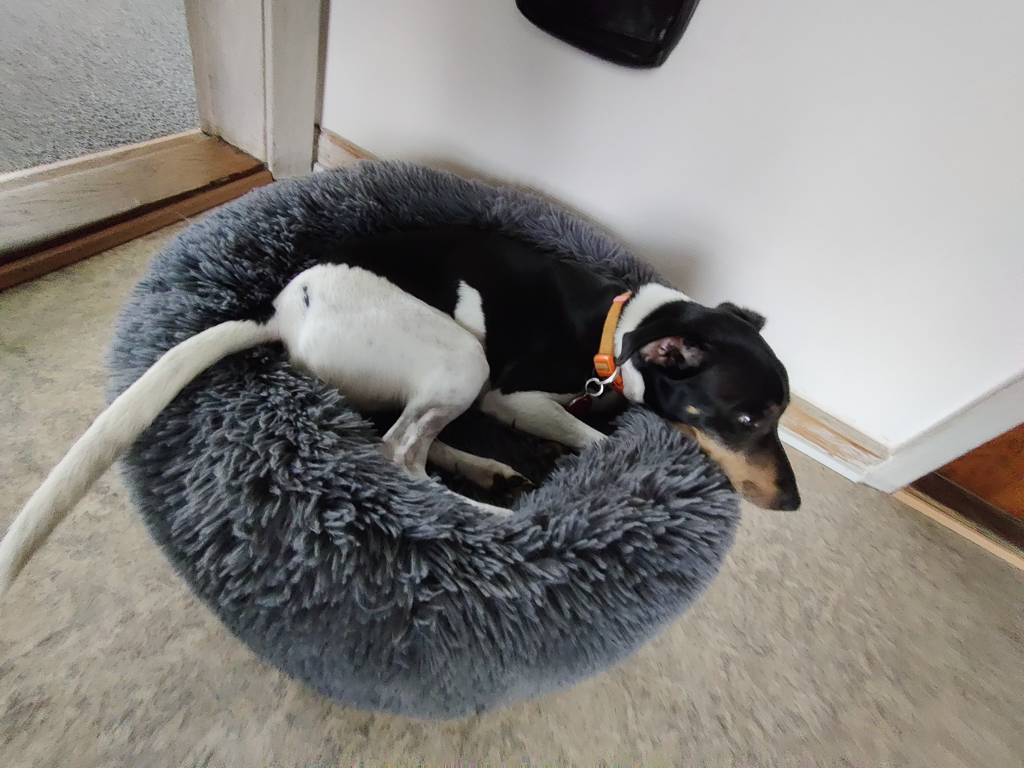Dog: (0, 208, 825, 614)
